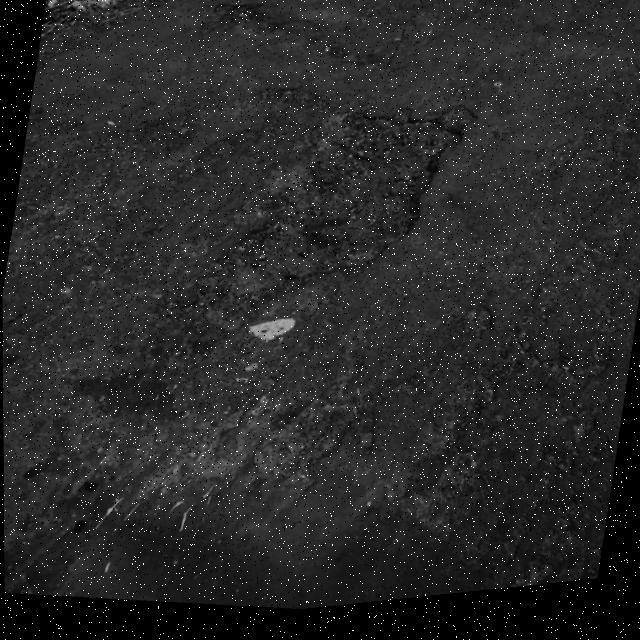pothole: (175, 71, 485, 368)
